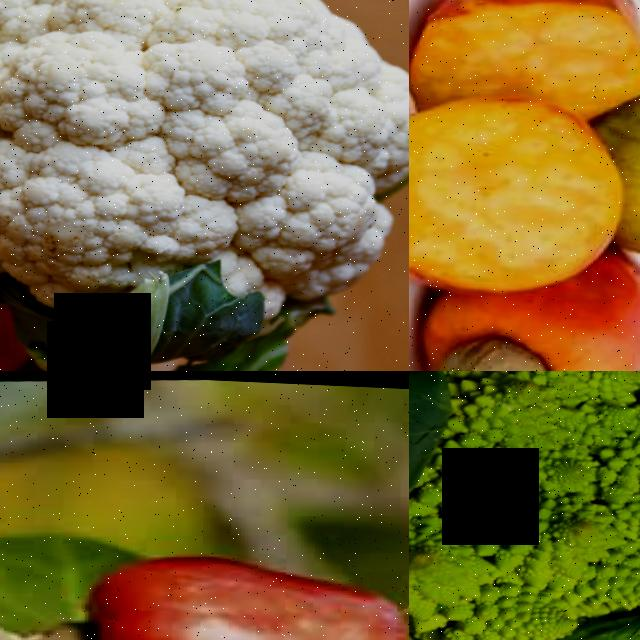cashew: (409, 324, 564, 371)
cauliflower: (0, 0, 409, 371), (409, 371, 640, 640)
